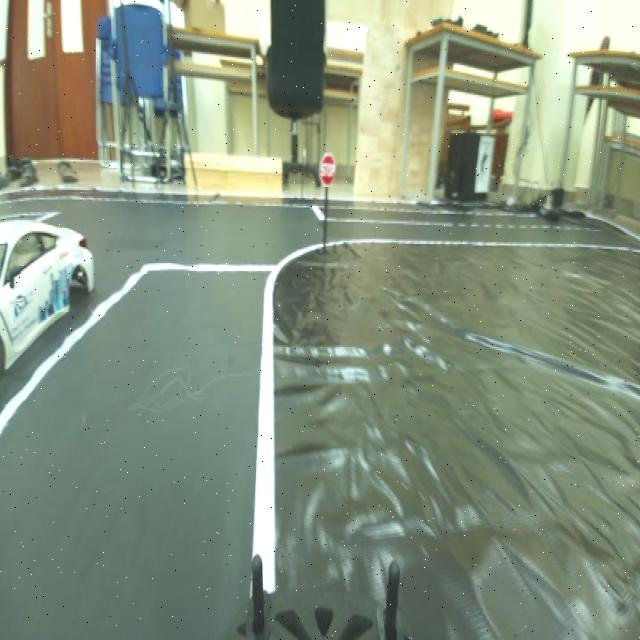stop: (313, 143, 347, 198)
